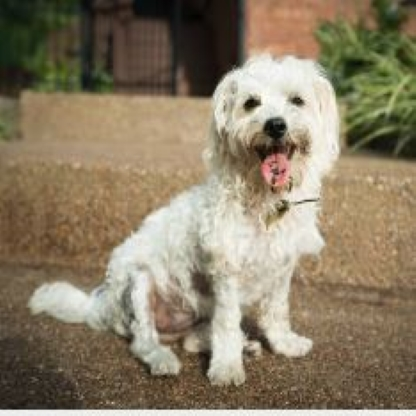maltese: (30, 55, 337, 381)
